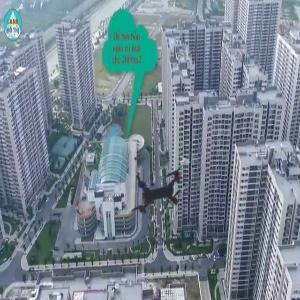drone: (101, 131, 220, 250)
